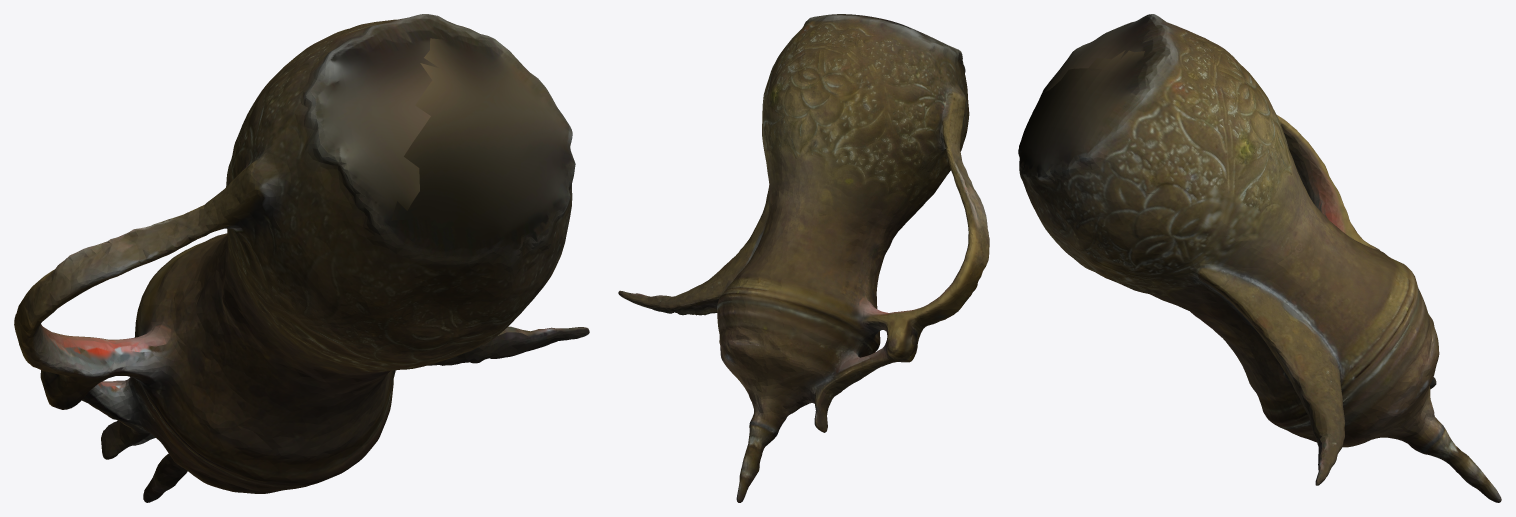
File: coffee-pot.obj
The picture shows the model from 3 angles, left to right: view 1: azimuth 30°, elevation 25°; view 2: azimuth 150°, elevation 25°; view 3: azimuth 270°, elevation 25°; orthographic projection. The views are drawn at different scales.
Bounding box in the file's own units: 1.6 × 1.67 × 1.53.
